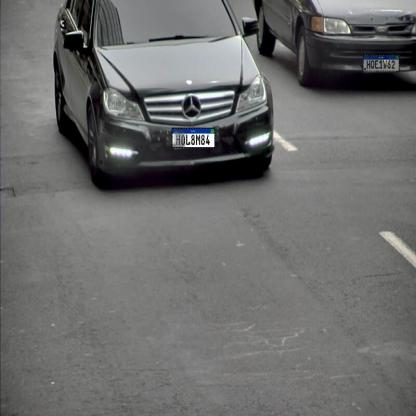PlacaM: (172, 127, 215, 148), (363, 55, 399, 71)
